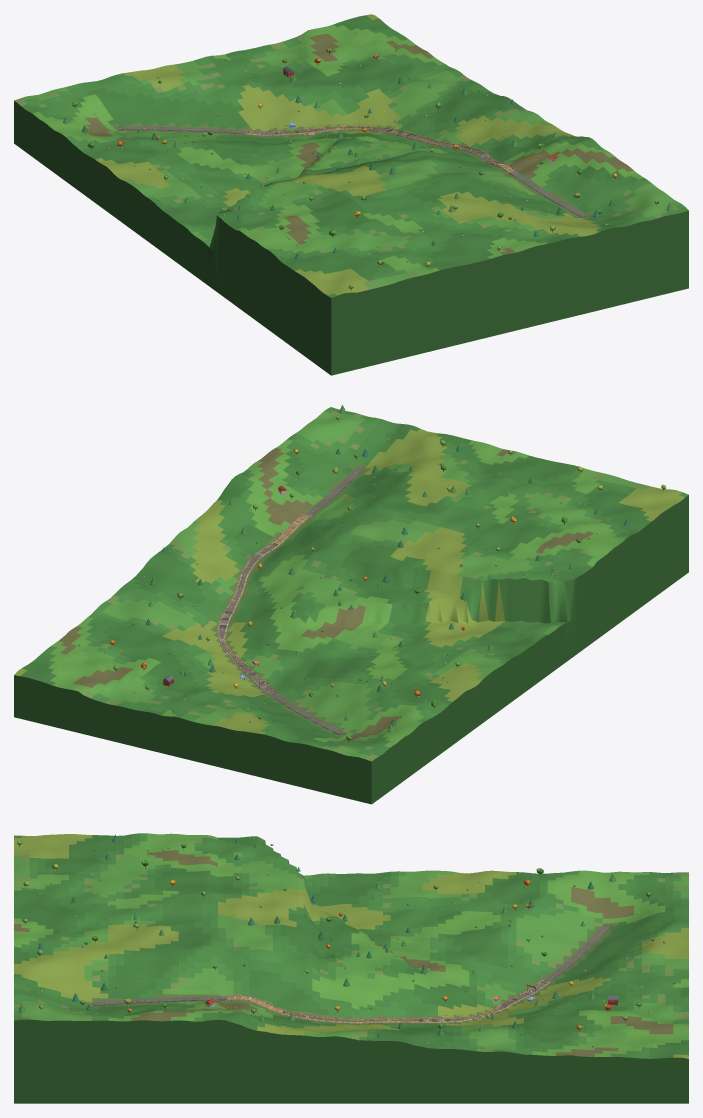
3 views of the same model, one above another, from view 1: azimuth 30°, elevation 25°; view 2: azimuth 150°, elevation 25°; view 3: azimuth 270°, elevation 25° (orthographic). The views are drawn at different scales.
Parts seen in each view (by area): view 1: grass, road, pines, hay, leafy trees; view 2: grass, road, pines, hay, leafy trees; view 3: grass, road, pines, hay, leafy trees.
Part boxes in pixels (left/top/right/bottom): grass: left=14, top=14, right=688, bottom=375; road: left=118, top=126, right=587, bottom=217; pines: left=63, top=75, right=673, bottom=259; hay: left=244, top=126, right=516, bottom=173; leafy trees: left=72, top=48, right=658, bottom=288; grass: left=14, top=407, right=688, bottom=804; road: left=218, top=467, right=364, bottom=734; pines: left=146, top=405, right=629, bottom=732; hay: left=217, top=513, right=311, bottom=696; leafy trees: left=113, top=415, right=666, bottom=739; grass: left=14, top=833, right=688, bottom=1103; road: left=92, top=923, right=611, bottom=1021; pines: left=18, top=834, right=616, bottom=1038; hay: left=227, top=979, right=550, bottom=1023; leafy trees: left=17, top=840, right=654, bottom=1028.
Size of the model in its own units: 392 by 91.2 by 602.
